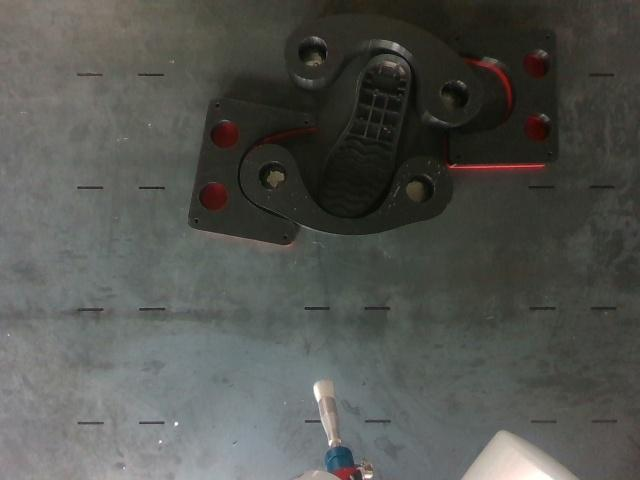shoes: (320, 56, 410, 216)
